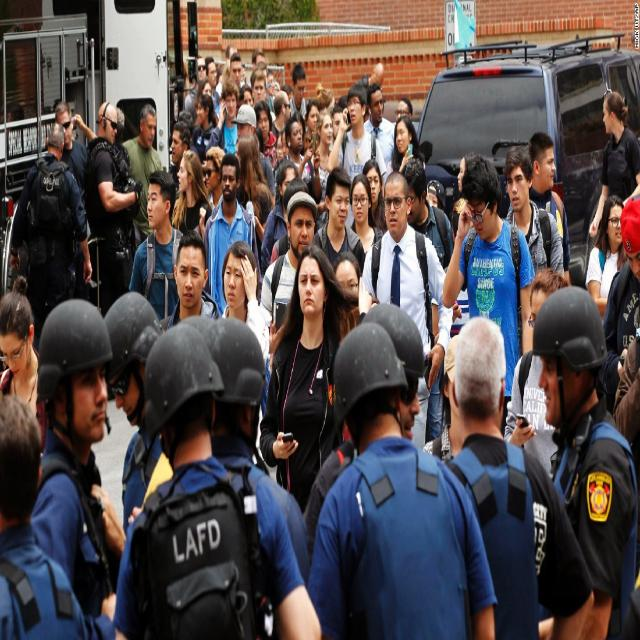body: (110, 318, 326, 639), (306, 317, 500, 640), (426, 307, 600, 639), (529, 285, 640, 640), (208, 315, 312, 637), (303, 302, 427, 571), (28, 296, 124, 628), (259, 243, 373, 518), (357, 168, 454, 454), (170, 40, 350, 194), (442, 151, 536, 437), (0, 393, 90, 640), (101, 288, 167, 538), (502, 264, 570, 482), (8, 121, 94, 285), (220, 240, 274, 469), (258, 188, 319, 372), (202, 152, 261, 319), (0, 273, 53, 455), (498, 144, 566, 280), (326, 83, 388, 227), (359, 60, 427, 189), (612, 329, 640, 640), (128, 168, 184, 322), (520, 130, 571, 291), (83, 98, 143, 234), (588, 89, 640, 239), (155, 225, 222, 338), (398, 155, 456, 275), (312, 164, 366, 280), (584, 192, 628, 332), (120, 105, 163, 248), (426, 150, 475, 252), (240, 192, 290, 278), (54, 100, 89, 211), (597, 195, 628, 318), (348, 172, 384, 258), (168, 193, 222, 243), (331, 247, 363, 301), (365, 187, 387, 234), (310, 192, 329, 234), (116, 100, 129, 160), (624, 98, 639, 143)
